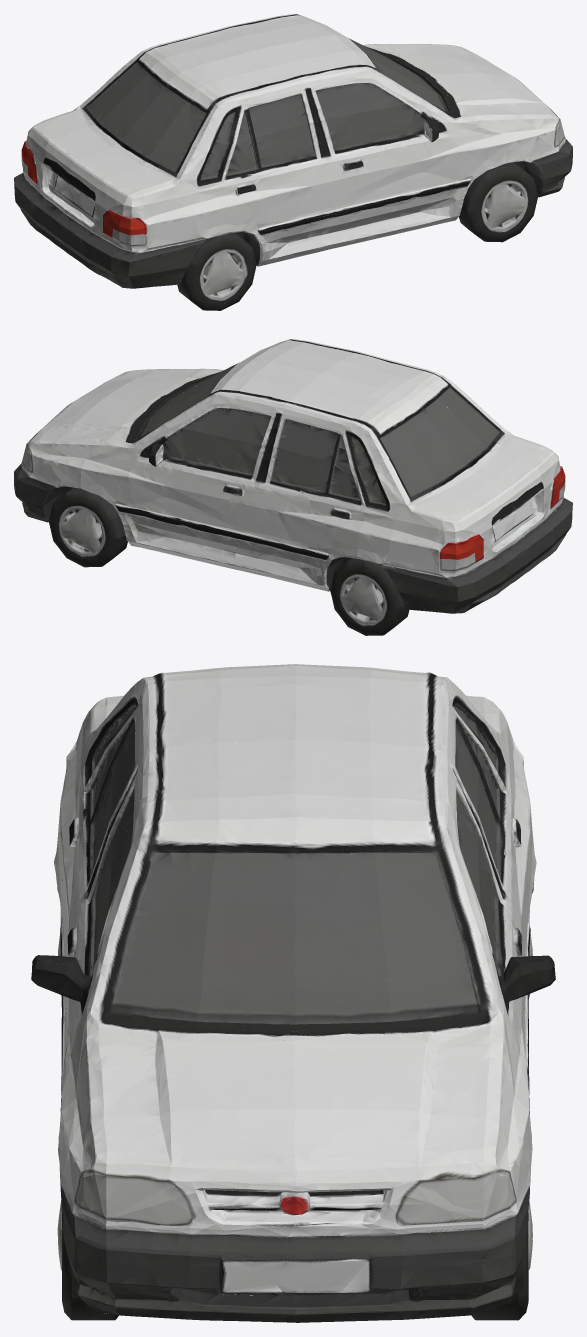
The model's file is pride.glb.
3 renders of one model, top to bottom at view 1: azimuth 30°, elevation 25°; view 2: azimuth 150°, elevation 25°; view 3: azimuth 270°, elevation 25°, orthographic. The views are drawn at different scales.
Visible parts, largest first — view 1: body, Right_Front_Wheel, Right_Back_Wheel; view 2: body, Left_Front_Wheel, Left_Back_Wheel; view 3: body, Left_Front_Wheel, Right_Front_Wheel.
Boxes of the visible parts, <box> form: body: <box>14,14,572,288</box>; Right_Front_Wheel: <box>459,162,538,242</box>; Right_Back_Wheel: <box>177,233,256,310</box>; body: <box>14,339,572,613</box>; Left_Front_Wheel: <box>48,487,127,567</box>; Left_Back_Wheel: <box>330,558,409,635</box>; body: <box>31,664,555,1322</box>; Left_Front_Wheel: <box>471,1201,532,1320</box>; Right_Front_Wheel: <box>57,1200,118,1320</box>.
Size of the model in its own units: 1 by 0.3968 by 0.4767.
Materials: 1 (1 with a texture image).
